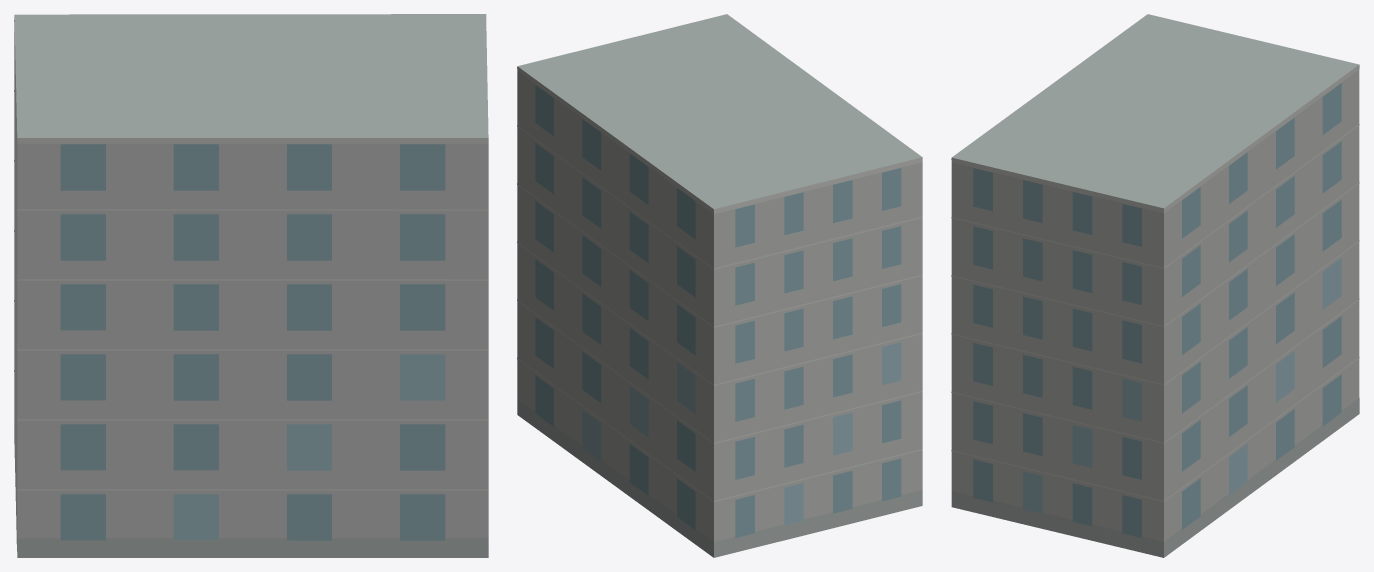
The model's file is survey-upis-32664250.glb.
3 renders of one model, left to right at view 1: azimuth 30°, elevation 25°; view 2: azimuth 150°, elevation 25°; view 3: azimuth 270°, elevation 25°, orthographic. The views are drawn at different scales.
Visible parts, largest first — view 1: survey-upis-32664250.tmp; view 2: survey-upis-32664250.tmp; view 3: survey-upis-32664250.tmp.
Boxes of the visible parts, x1,y1,x2,y2 form: survey-upis-32664250.tmp: (14,14,488,557); survey-upis-32664250.tmp: (517,14,922,557); survey-upis-32664250.tmp: (951,14,1359,557).
Bounding box in the file's own units: 20.65 × 17.3 × 18.32.
